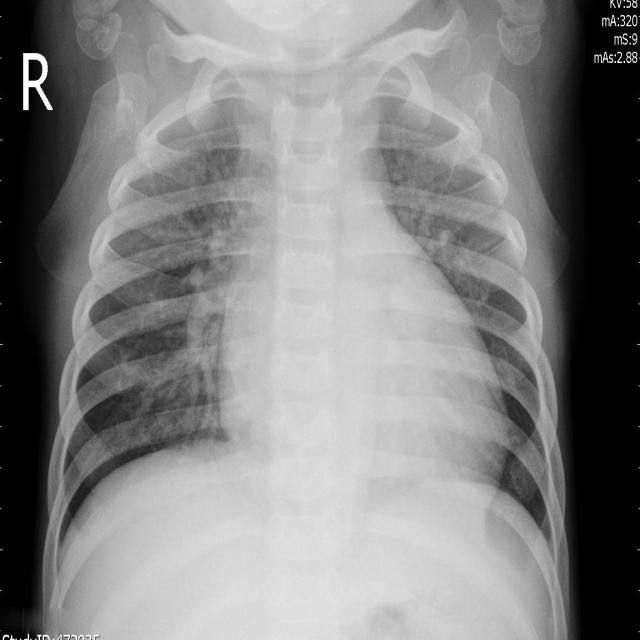low-pneumonia: (177, 180, 250, 392)
